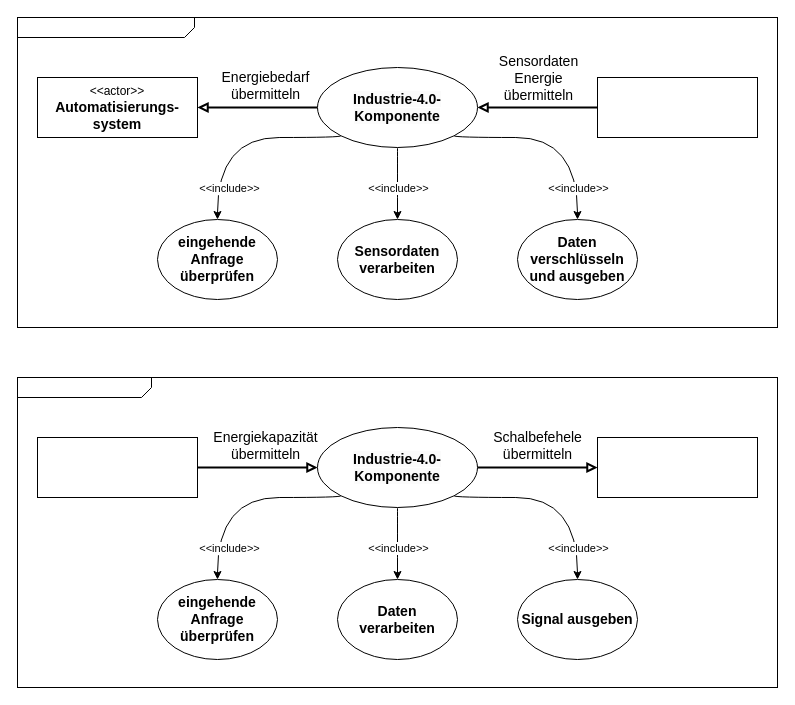
The diagram is 795 pixels wide and 705 high, and some of its shapes have lost their labels. Here are the shapes that lost their labels. From the top down, the box of each, then its label:
(596, 76, 758, 138): Energiemanagement-system
(16, 16, 778, 328): uc Energiebedarfserfassung
(36, 436, 198, 498): Automatisierungs-system
(596, 436, 758, 498): <<actor>> Energiemanagement-system
(16, 376, 778, 688): uc Energieregelung
